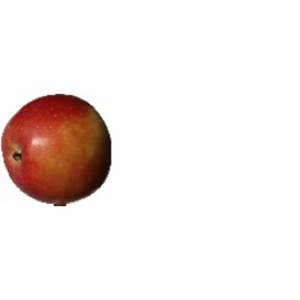maçã braeburn: (1, 91, 114, 206)
